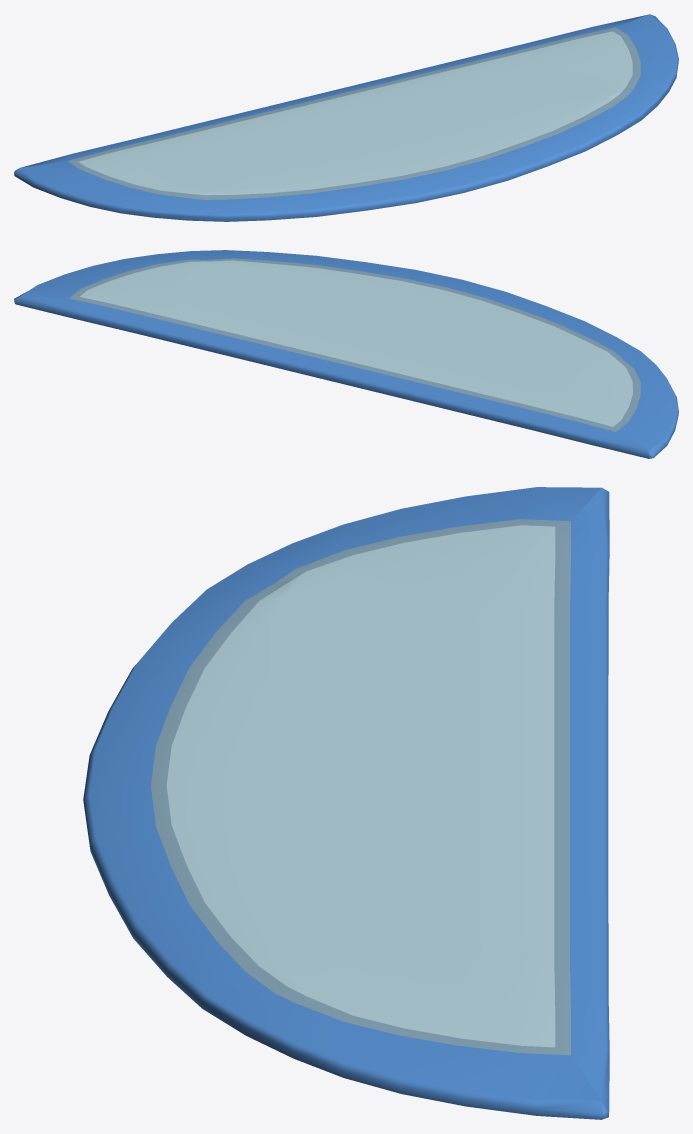
The model's file is Carpet_4.glb.
3 views of the same model, one above another, from view 1: azimuth 30°, elevation 25°; view 2: azimuth 150°, elevation 25°; view 3: azimuth 270°, elevation 25° (orthographic). The views are drawn at different scales.
Visible parts, largest first — view 1: Carpet_4; view 2: Carpet_4; view 3: Carpet_4.
Part boxes in pixels (x1,y1,x2,y2): Carpet_4: [14, 14, 678, 221]; Carpet_4: [14, 250, 678, 458]; Carpet_4: [83, 487, 609, 1119].
Bounding box in the file's own units: 1.97 × 0.0356 × 0.7015.
1 material, 1 textured.
